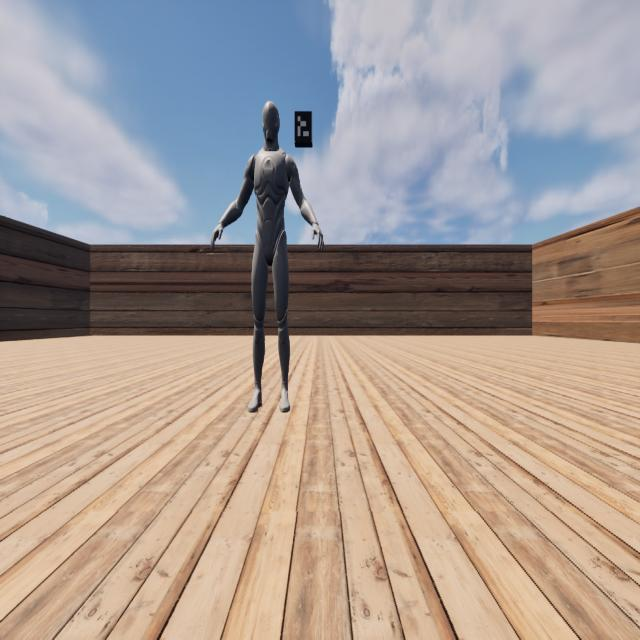aruco: (295, 110, 312, 143)
hip: (255, 230, 287, 242)
